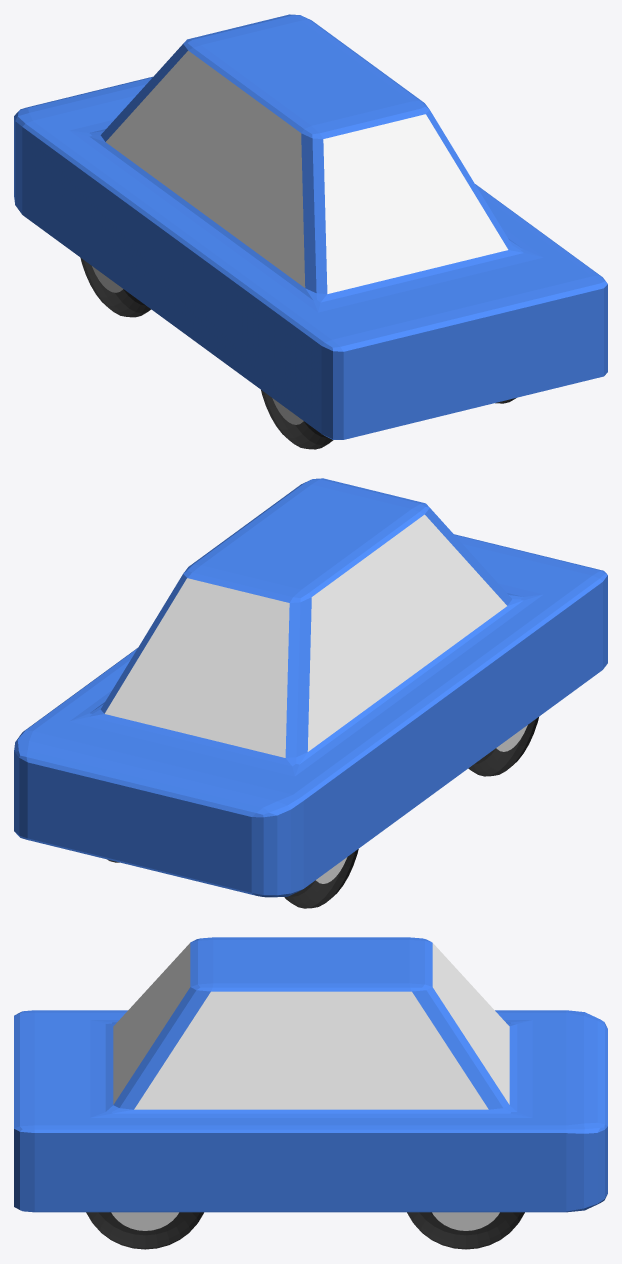
Rendered from car.glb.
3 views of the same model, one above another, from view 1: azimuth 30°, elevation 25°; view 2: azimuth 150°, elevation 25°; view 3: azimuth 270°, elevation 25° (orthographic). The views are drawn at different scales.
Visible parts, largest first — view 1: 圆环; view 2: 圆环; view 3: 圆环.
Part boxes in pixels (x1,y1,x2,y2): 圆环: (14, 14, 607, 449); 圆环: (14, 478, 607, 908); 圆环: (14, 937, 607, 1249).
Bounding box in the file's own units: 0.687 × 0.6505 × 1.41.
